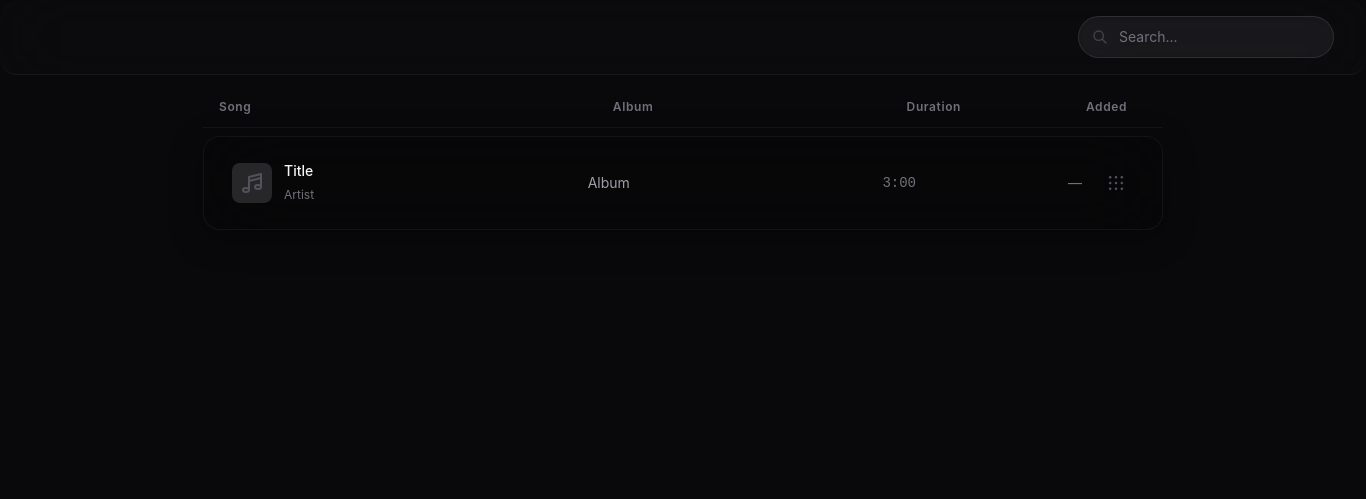
Test: LibraryTable context menu › opens the song menu at the cursor on right-click
Expected: the text "Title" is shown, [284, 162, 313, 179]
Step 1. Right-click the text "Title" → (252, 183), box [216, 149, 1150, 217]
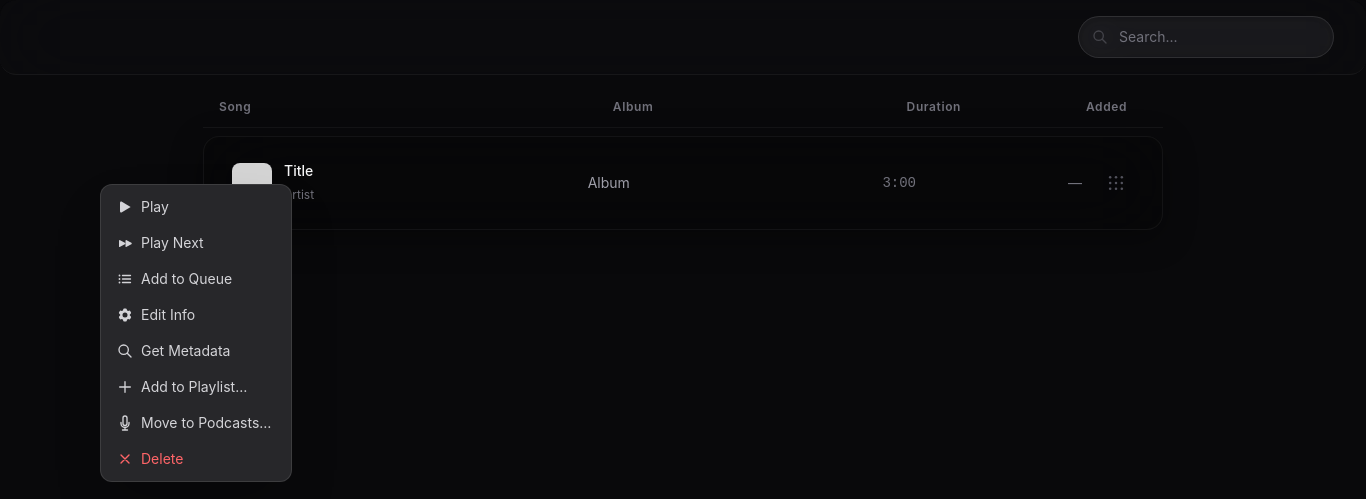
Now the text "Play Next" is shown, box [101, 225, 291, 261]
